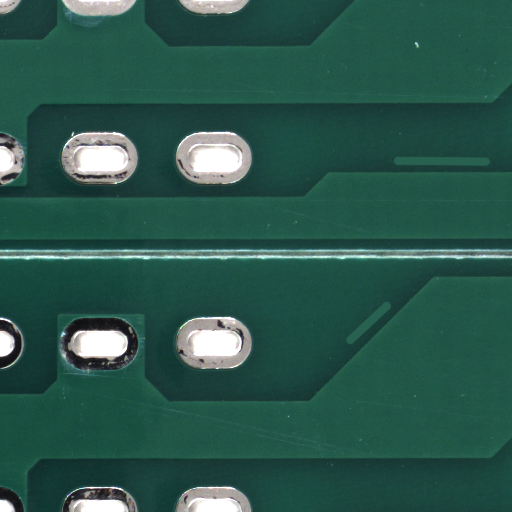Spurious_copper: (367, 322, 413, 365), (439, 161, 512, 176)
